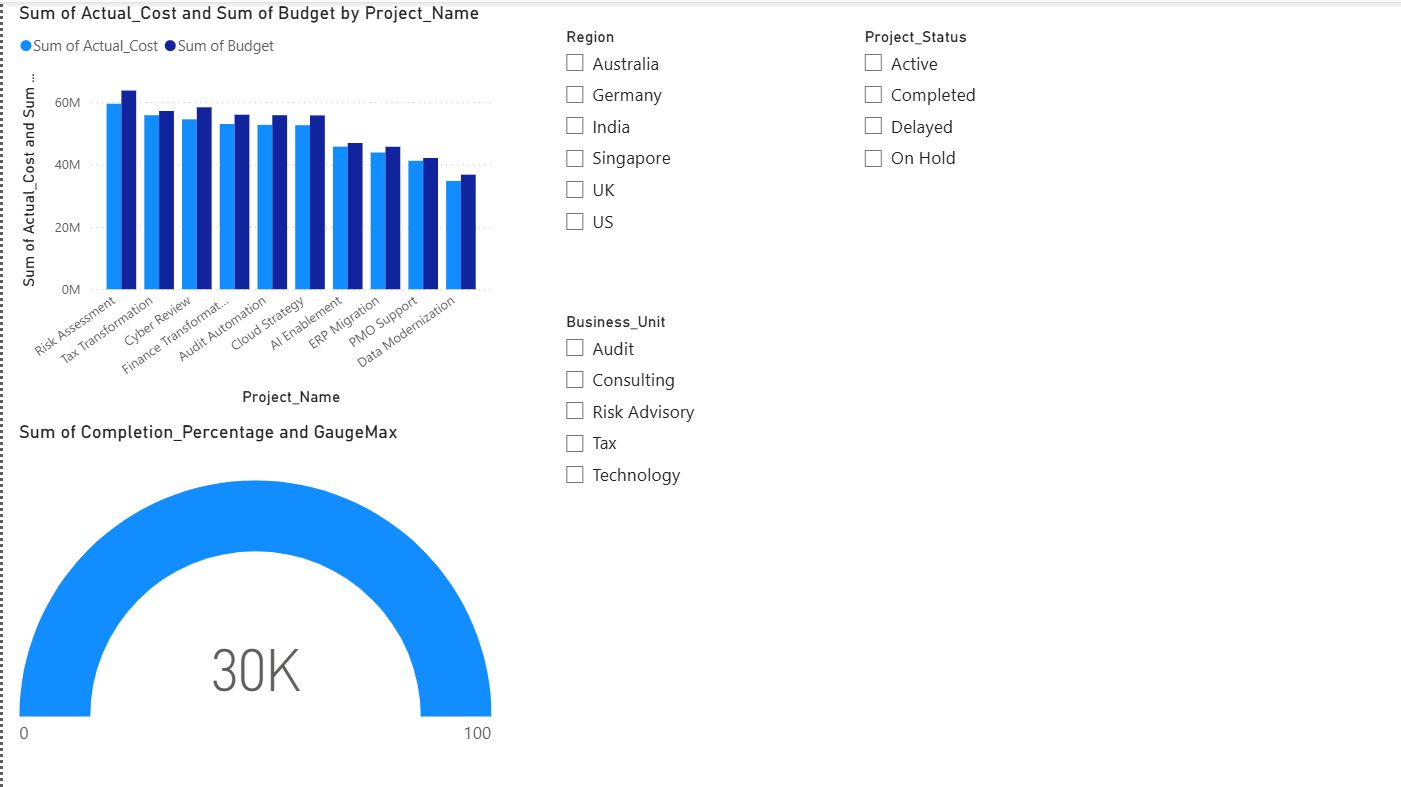

Layout of this report page (visuals, bound fields, positions):
{"tool":"powerbi","page":{"name":"Project Portfolio","canvas":[1280,720],"ordinal":1},"visuals":[{"type":"clusteredColumnChart","fields":{"Y":["Sum(Sheet.Actual_Cost)","Sum(Sheet.Budget)"],"Category":["Sheet.Project_Name"]},"box":[9.2,0,441.9,373.5],"z":0},{"type":"gauge","fields":{"Y":["Sum(Sheet.Completion_Percentage)"],"MaxValue":["Sheet.GaugeMax"]},"box":[9,383,442,337],"z":1000},{"type":"slicer","fields":{"Values":["Sheet.Region"]},"box":[502.9,18.5,244,290.3],"z":1001},{"type":"slicer","fields":{"Values":["Sheet.Business_Unit"]},"box":[502.9,279.2,244,336.5],"z":1002},{"type":"slicer","fields":{"Values":["Sheet.Project_Status"]},"box":[775,18,244,290],"z":1003}]}

Visuals, with their boxes in screenshot pixels (x1, y1, x2, y2), scaled from the page's 1280x720 canvas onto the 1401x787 screenshot:
clusteredColumnChart - Sum(Sheet.Actual_Cost) x Sum(Sheet.Budget): [x1=10, y1=0, x2=494, y2=408]
gauge - Sum(Sheet.Completion_Percentage) x Sheet.GaugeMax: [x1=10, y1=419, x2=494, y2=786]
slicer - Sheet.Region: [x1=550, y1=20, x2=818, y2=338]
slicer - Sheet.Business_Unit: [x1=550, y1=305, x2=818, y2=673]
slicer - Sheet.Project_Status: [x1=848, y1=20, x2=1115, y2=337]
